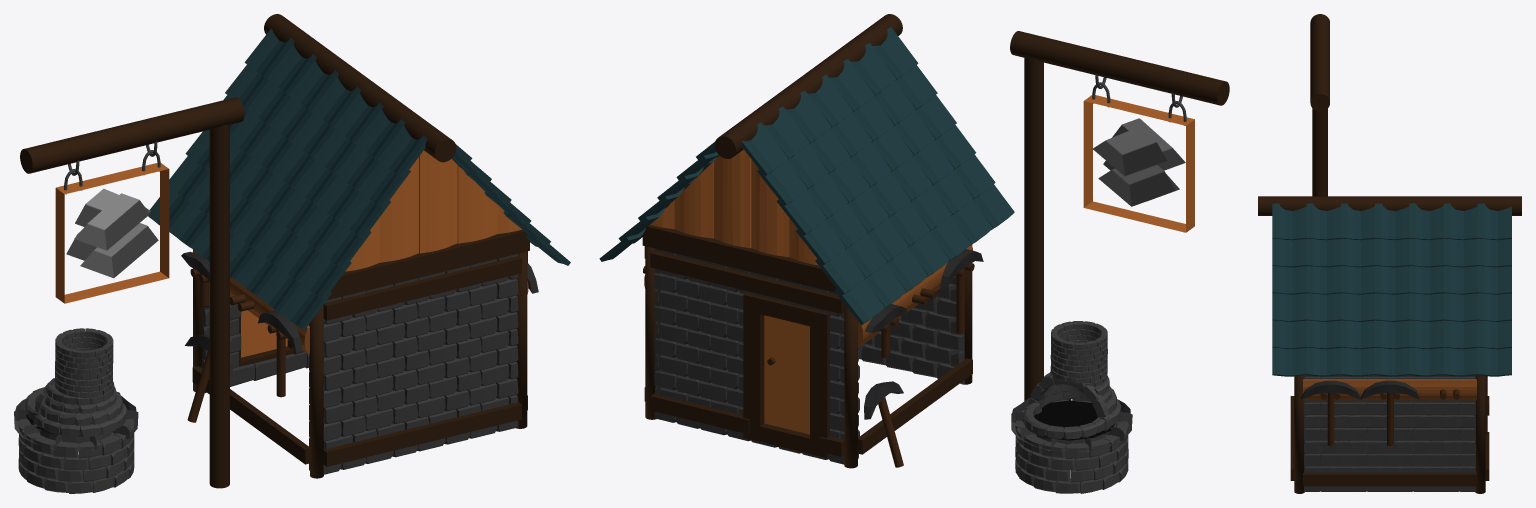
Rendered from MetalMineBuilding.fbx.
3 renders of one model, left to right at view 1: azimuth 30°, elevation 25°; view 2: azimuth 150°, elevation 25°; view 3: azimuth 270°, elevation 25°, orthographic. The views are drawn at different scales.
Parts seen in each view (by area): view 1: House, Brick.002, Cylinder.005, Icon, FurnaceBase, Cube.008, Cube.010, Brick, Cube.004, Pickaxe.002, Pickaxe, BrokenPickaxe; view 2: House, Brick, Cylinder.005, Icon, FurnaceBase, Brick.002, Cube.008, Cube.010, Plane.001, Cube.004, Pickaxe, Pickaxe.002 (+1 smaller); view 3: House, Brick.001, Cylinder.005, Pickaxe.001.
Part boxes in pixels (left/top/right/bottom): House: left=148, top=14, right=570, bottom=478; Brick.002: left=309, top=254, right=518, bottom=474; Cylinder.005: left=20, top=97, right=244, bottom=488; Icon: left=55, top=163, right=169, bottom=303; FurnaceBase: left=18, top=419, right=134, bottom=493; Cube.008: left=25, top=378, right=126, bottom=436; Cube.010: left=55, top=328, right=113, bottom=397; Brick: left=201, top=282, right=309, bottom=392; Cube.004: left=14, top=396, right=138, bottom=450; Pickaxe.002: left=258, top=310, right=302, bottom=397; Pickaxe: left=185, top=335, right=233, bottom=422; BrokenPickaxe: left=181, top=252, right=209, bottom=308; House: left=599, top=14, right=1014, bottom=468; Brick: left=654, top=248, right=859, bottom=464; Cylinder.005: left=1010, top=31, right=1229, bottom=400; Icon: left=1083, top=95, right=1194, bottom=232; FurnaceBase: left=1015, top=400, right=1128, bottom=493; Brick.002: left=858, top=277, right=964, bottom=384; Cube.008: left=1023, top=371, right=1121, bottom=439; Cube.010: left=1050, top=321, right=1107, bottom=387; Plane.001: left=1022, top=400, right=1115, bottom=440; Cube.004: left=1011, top=397, right=1132, bottom=451; Pickaxe: left=864, top=381, right=903, bottom=467; Pickaxe.002: left=939, top=249, right=983, bottom=334; House: left=1258, top=196, right=1521, bottom=493; Brick.001: left=1304, top=375, right=1475, bottom=491; Cylinder.005: left=1310, top=14, right=1329, bottom=196; Pickaxe.001: left=1301, top=380, right=1419, bottom=446.
Bounding box in the file's own units: 2633 × 1926 × 1514.
Materials: 2 (2 with a texture image).
